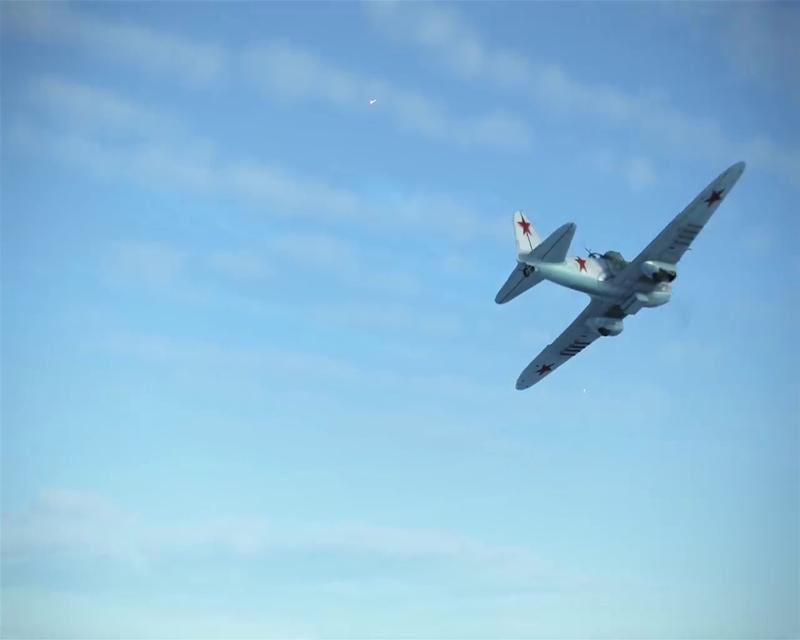UAV: (494, 160, 745, 390)
